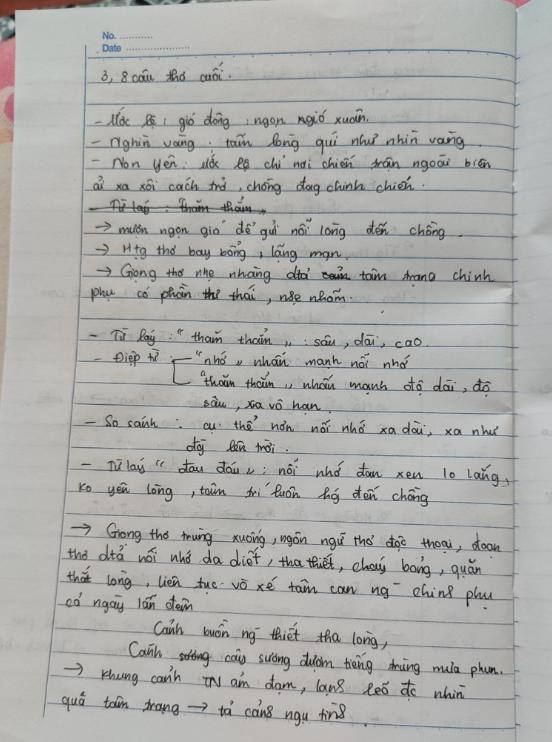text: (65, 562, 497, 612), (66, 540, 486, 582), (105, 520, 503, 562), (100, 662, 468, 706), (128, 639, 506, 681), (81, 458, 512, 488), (60, 688, 348, 730), (76, 477, 432, 510), (89, 126, 468, 156), (89, 152, 493, 176), (94, 262, 497, 286), (90, 324, 424, 352), (95, 216, 446, 242), (92, 104, 370, 136), (90, 171, 418, 198), (197, 371, 494, 400), (152, 616, 390, 652), (200, 413, 502, 440), (88, 282, 354, 307), (92, 240, 350, 262), (194, 350, 411, 372), (87, 194, 268, 217), (100, 58, 232, 86), (64, 590, 196, 616), (201, 394, 325, 416), (185, 434, 278, 460), (82, 412, 160, 433), (92, 346, 162, 366), (100, 42, 122, 54), (101, 30, 116, 42)
